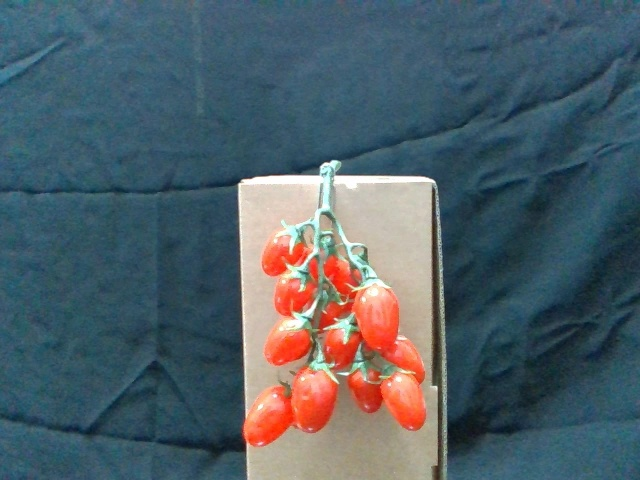tomato: (383, 372, 432, 434), (295, 366, 340, 431), (244, 385, 294, 443), (357, 279, 400, 344), (265, 314, 313, 366), (263, 225, 306, 277), (383, 335, 425, 381), (276, 267, 315, 315), (326, 319, 363, 368), (349, 365, 385, 414)
